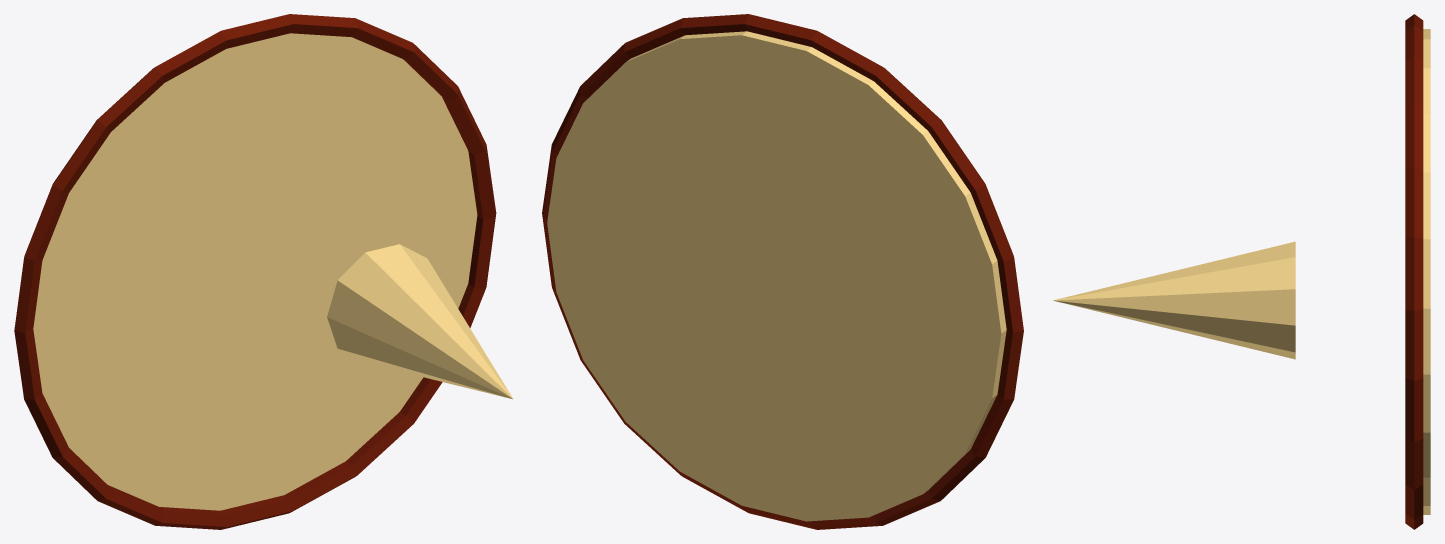
Rendered from 05_water_star_sky_or_liquid_asset.glb.
3 views of the same model, side by side, from view 1: azimuth 30°, elevation 25°; view 2: azimuth 150°, elevation 25°; view 3: azimuth 270°, elevation 25° (orthographic). The views are drawn at different scales.
Visible parts, largest first — view 1: liquid_surface, shoreline_rim, steam_plume; view 2: liquid_surface, shoreline_rim; view 3: steam_plume, shoreline_rim, liquid_surface.
Boxes of the visible parts, left/top/right/bottom form: liquid_surface: left=33, top=33, right=477, bottom=510; shoreline_rim: left=14, top=14, right=496, bottom=529; steam_plume: left=327, top=244, right=512, bottom=399; liquid_surface: left=547, top=31, right=1006, bottom=521; shoreline_rim: left=542, top=14, right=1023, bottom=529; steam_plume: left=1053, top=241, right=1295, bottom=359; shoreline_rim: left=1405, top=14, right=1423, bottom=529; liquid_surface: left=1423, top=29, right=1430, bottom=514.
Size of the model in its own units: 1.91 by 1.89 by 1.4.
